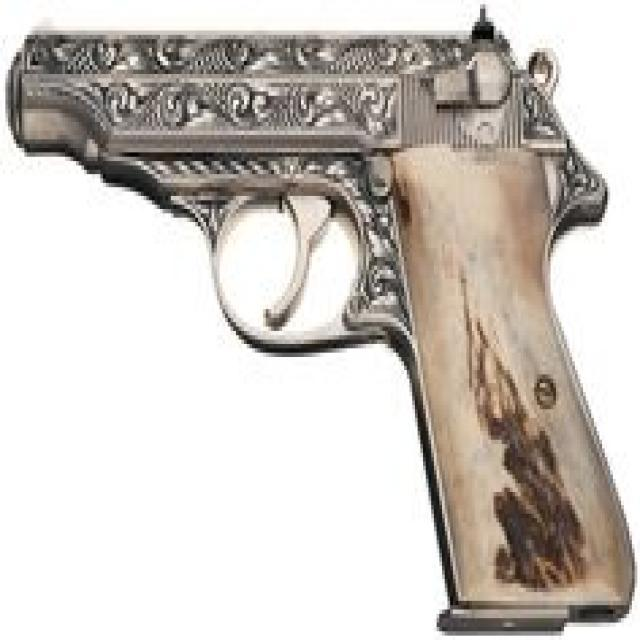semi automatic: (5, 8, 632, 632)
